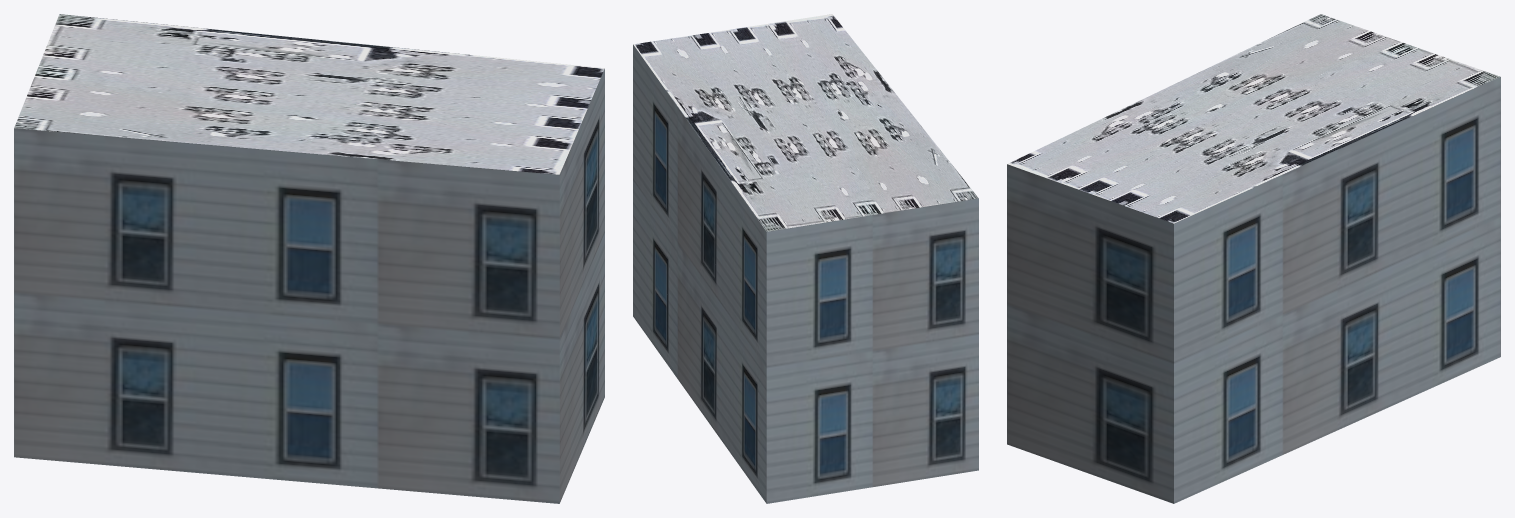
The model's file is ResTex__1176.fbx.
The picture shows the model from 3 angles, left to right: view 1: azimuth 30°, elevation 25°; view 2: azimuth 150°, elevation 25°; view 3: azimuth 270°, elevation 25°; orthographic projection. The views are drawn at different scales.
Visible parts, largest first — view 1: CityEngineMaterial_18_m, CityEngineMaterial_m; view 2: CityEngineMaterial_18_m, CityEngineMaterial_m; view 3: CityEngineMaterial_18_m, CityEngineMaterial_m.
Boxes of the visible parts, x1,y1,x2,y2 form: CityEngineMaterial_18_m: [14, 68, 604, 503]; CityEngineMaterial_m: [14, 14, 604, 174]; CityEngineMaterial_18_m: [633, 44, 978, 503]; CityEngineMaterial_m: [633, 14, 978, 231]; CityEngineMaterial_18_m: [1007, 77, 1500, 503]; CityEngineMaterial_m: [1007, 14, 1500, 223].
Size of the model in its own units: 9.62 by 6 by 9.58.
2 materials, 2 textured.
